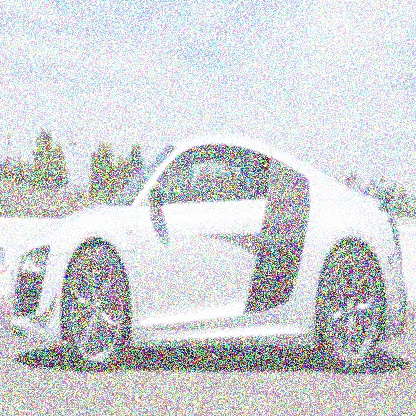Vehicle: (9, 127, 409, 360)
